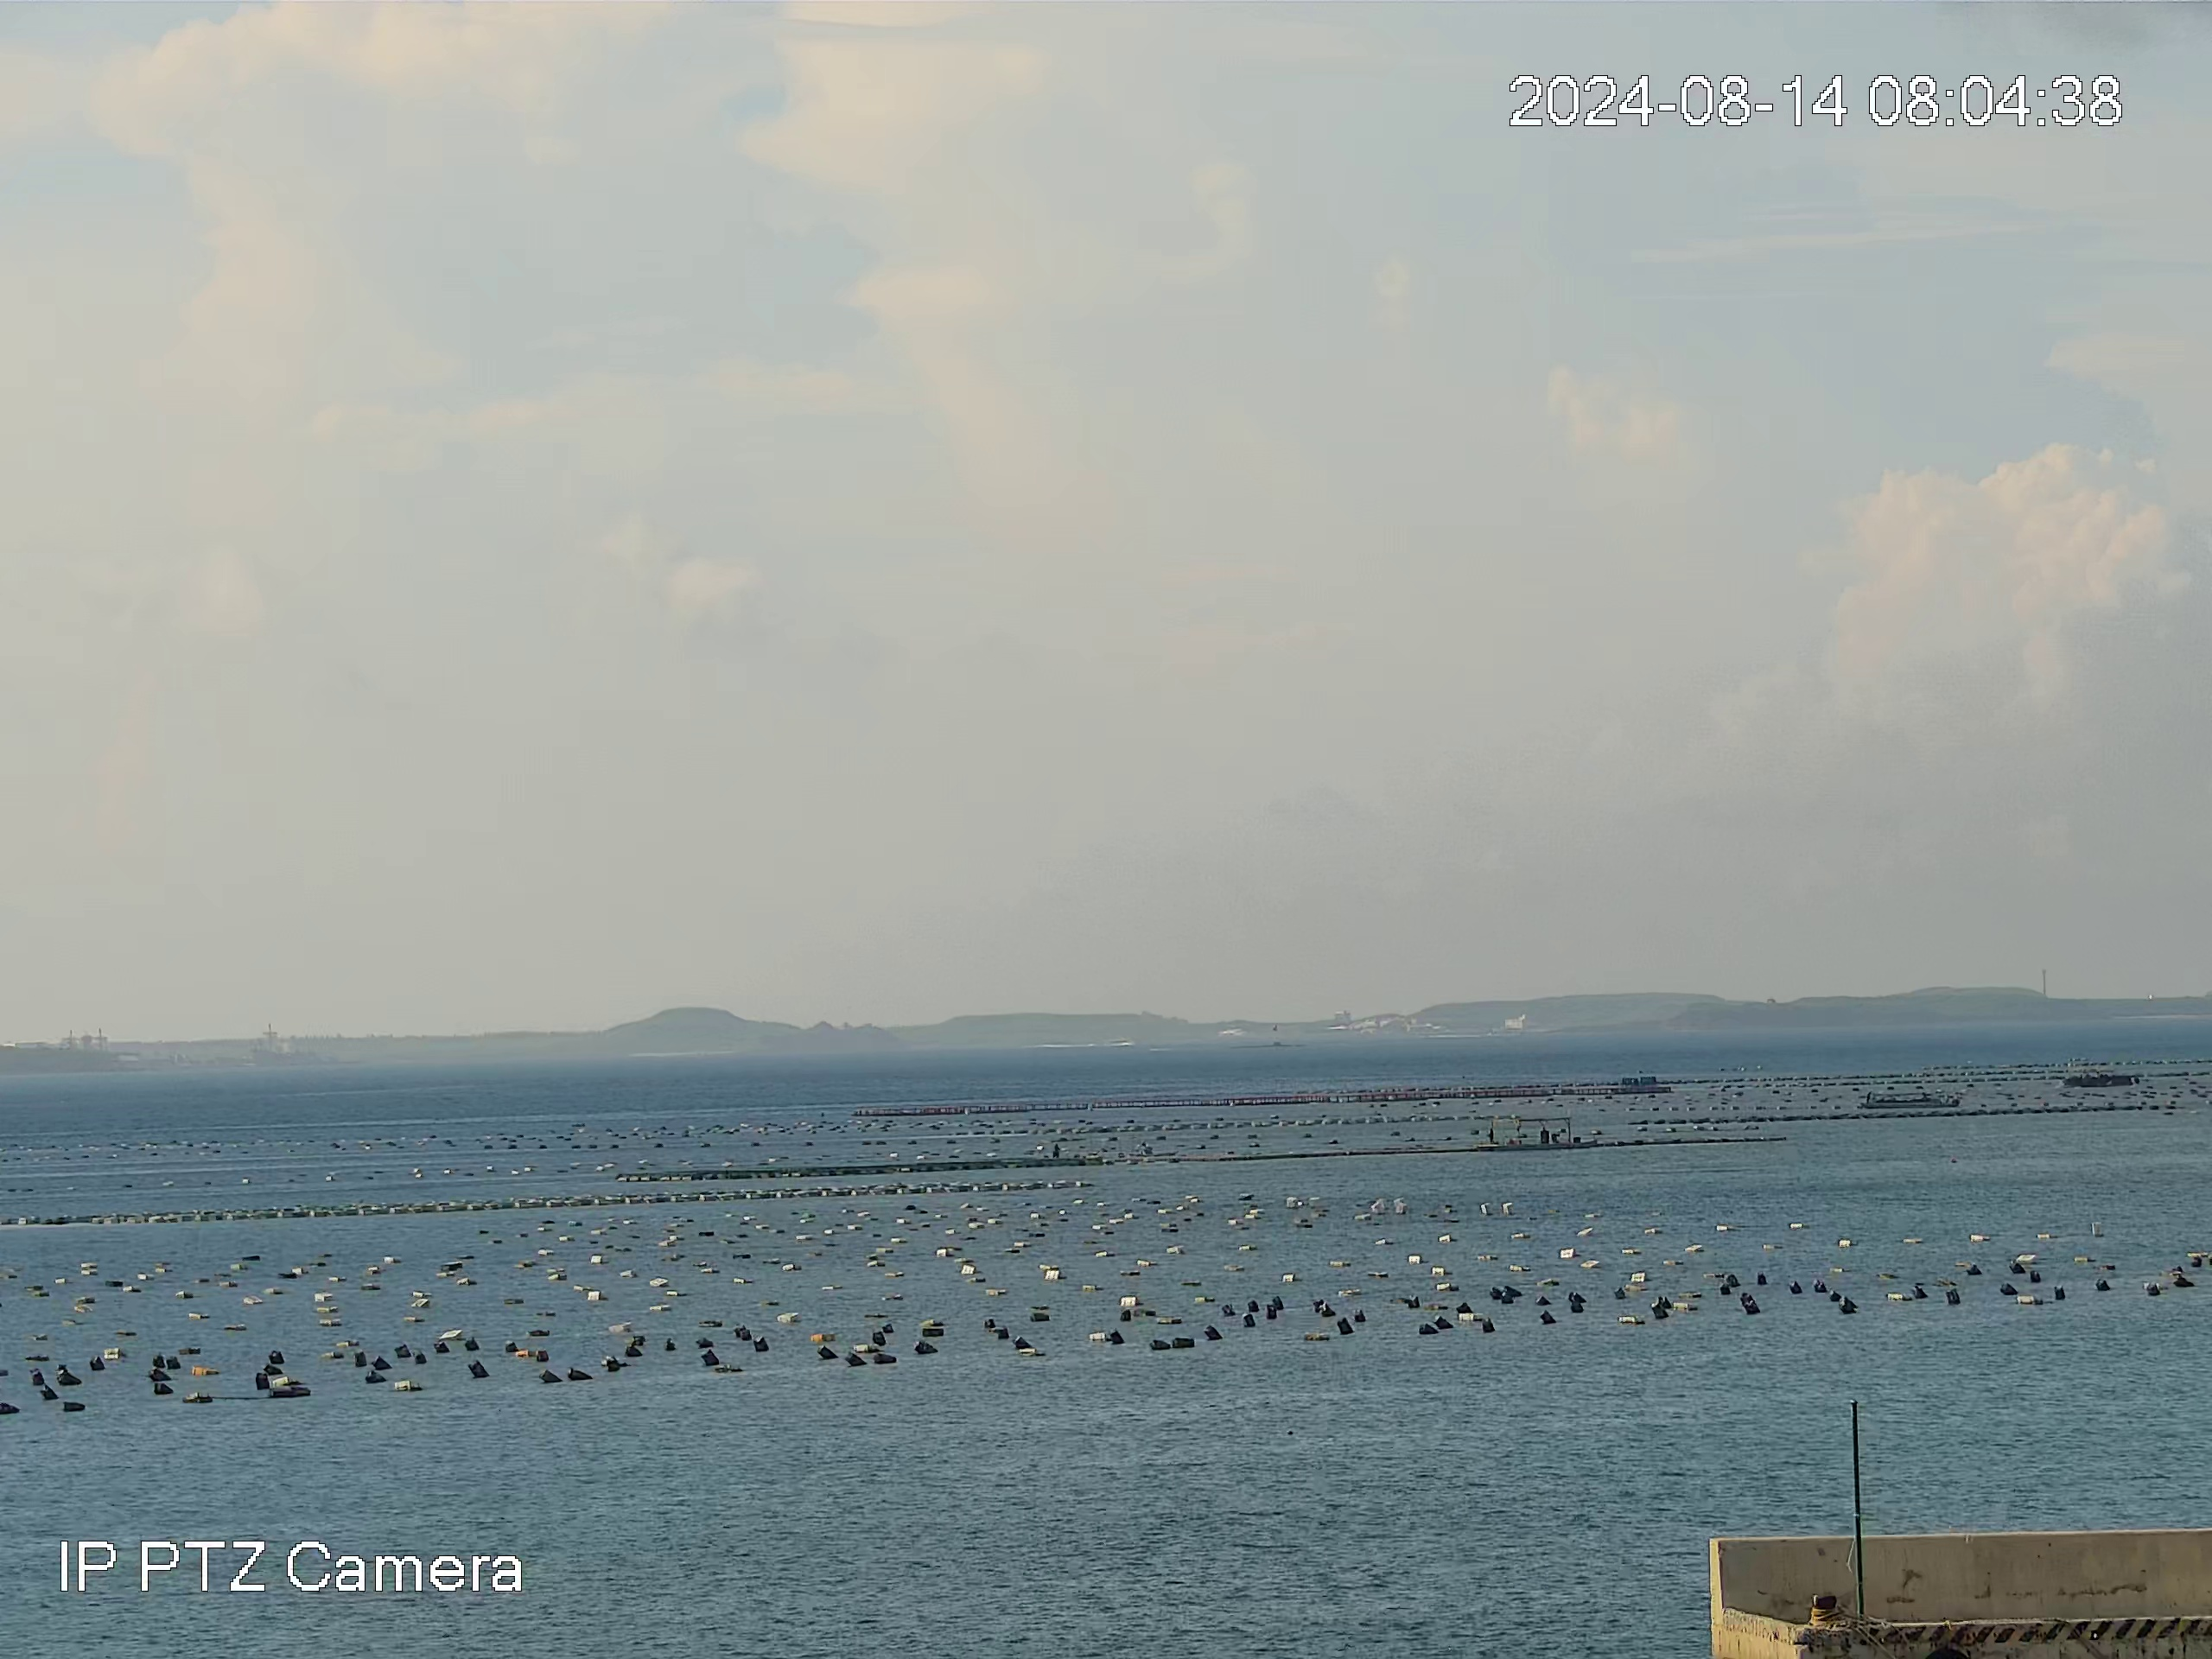boat: (1475, 1108, 1594, 1150), (1857, 1082, 1968, 1115), (2055, 1066, 2141, 1093)
